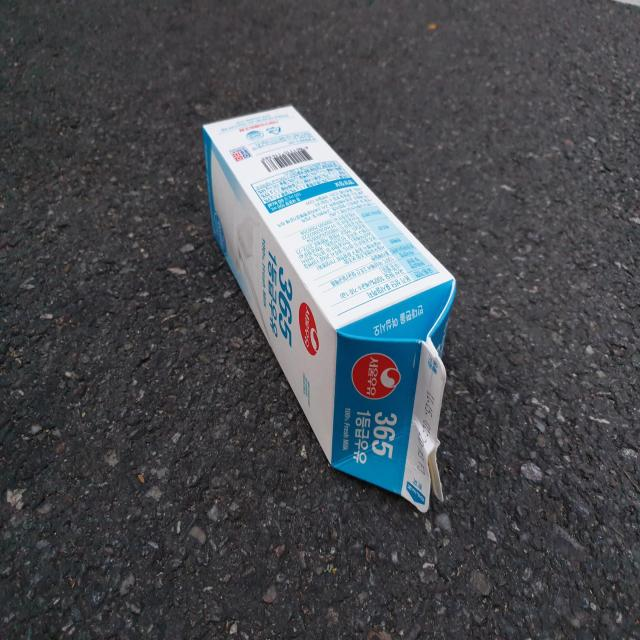paperpack: (203, 105, 456, 513)
